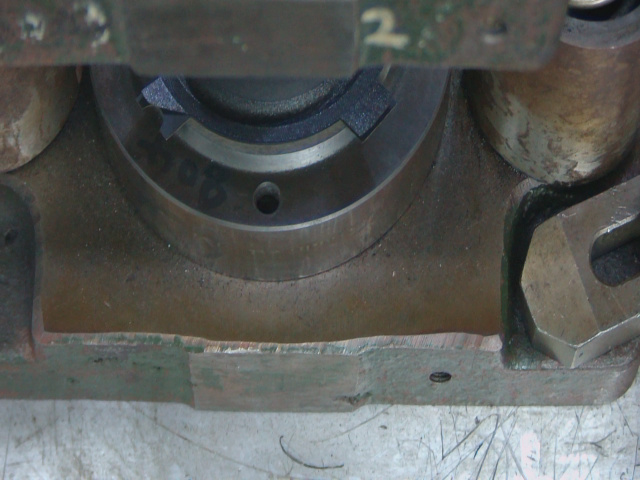NG: (136, 82, 200, 149)
